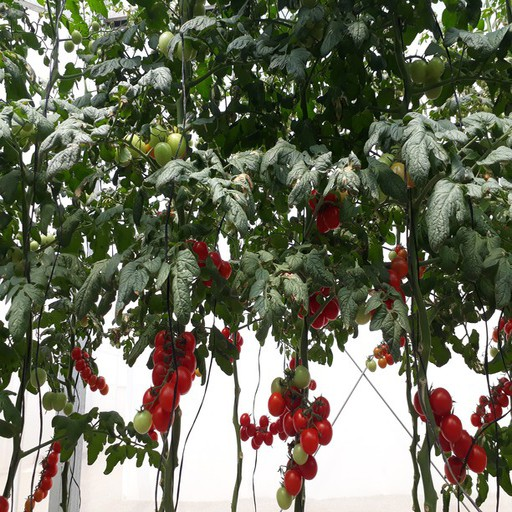green tomato bunch: (106, 124, 189, 164), (390, 53, 445, 100), (28, 367, 73, 416)
mixed tomato bunch: (366, 339, 407, 372)
red tomato bunch: (415, 389, 488, 483), (140, 329, 195, 435), (271, 365, 333, 453), (373, 257, 410, 346), (26, 439, 63, 512), (182, 240, 232, 286), (279, 453, 314, 512), (471, 378, 512, 427), (298, 284, 341, 328), (70, 347, 109, 394), (312, 183, 350, 231), (239, 411, 274, 447), (217, 326, 243, 366)
